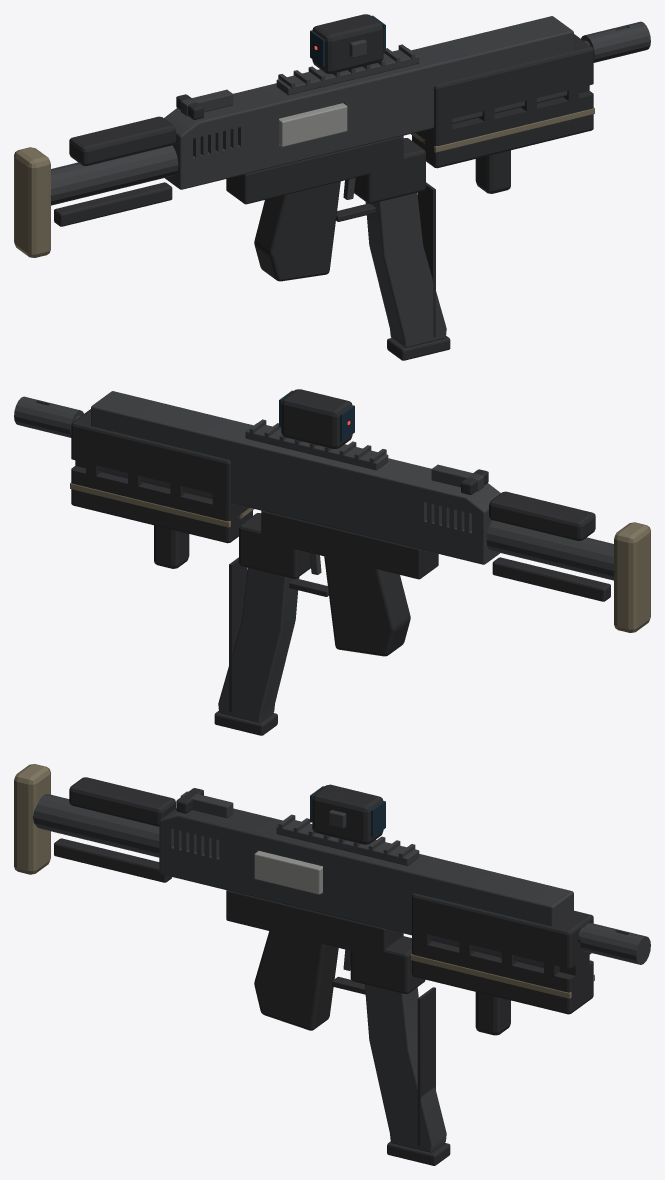
File: smg.glb
The picture shows the model from 3 angles, top to bottom: view 1: azimuth 30°, elevation 25°; view 2: azimuth 150°, elevation 25°; view 3: azimuth 330°, elevation 25°; orthographic projection.
Visible parts, largest first — view 1: gun_frame, gun_mag, gun_slide; view 2: gun_frame, gun_mag, gun_slide; view 3: gun_frame, gun_mag, gun_slide.
Part boxes in pixels (<box>): gun_frame: <box>14,14,650,281</box>; gun_mag: <box>365,182,450,360</box>; gun_slide: <box>176,89,347,146</box>; gun_frame: <box>14,389,650,656</box>; gun_mag: <box>214,557,299,735</box>; gun_slide: <box>431,464,488,494</box>; gun_frame: <box>14,764,650,1035</box>; gun_mag: <box>365,984,450,1165</box>; gun_slide: <box>176,788,322,894</box>.
Bounding box in the file's own units: 0.663 × 0.349 × 0.0495.
